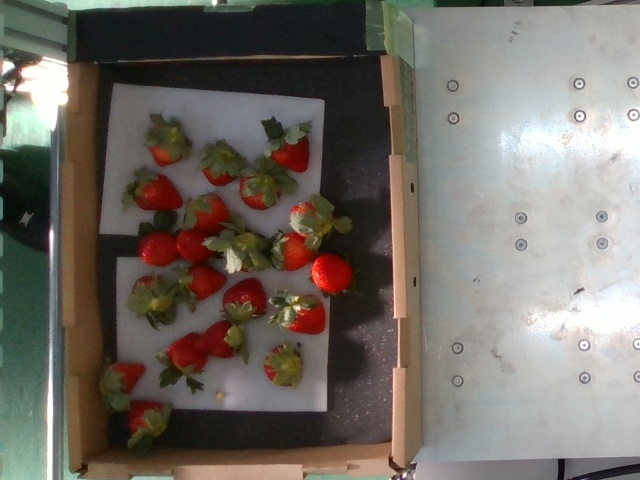strawberry: (132, 174, 184, 211), (224, 277, 268, 319), (185, 193, 230, 234), (167, 332, 208, 375), (272, 129, 312, 173), (201, 144, 241, 187), (228, 233, 271, 273), (282, 295, 325, 335), (195, 320, 239, 359), (272, 233, 315, 271), (183, 263, 228, 299), (313, 253, 353, 293), (149, 127, 190, 166), (290, 201, 332, 239), (240, 172, 281, 210), (265, 345, 303, 386), (176, 228, 220, 263), (131, 276, 172, 312), (127, 400, 165, 437), (139, 231, 179, 266), (102, 363, 146, 394)
